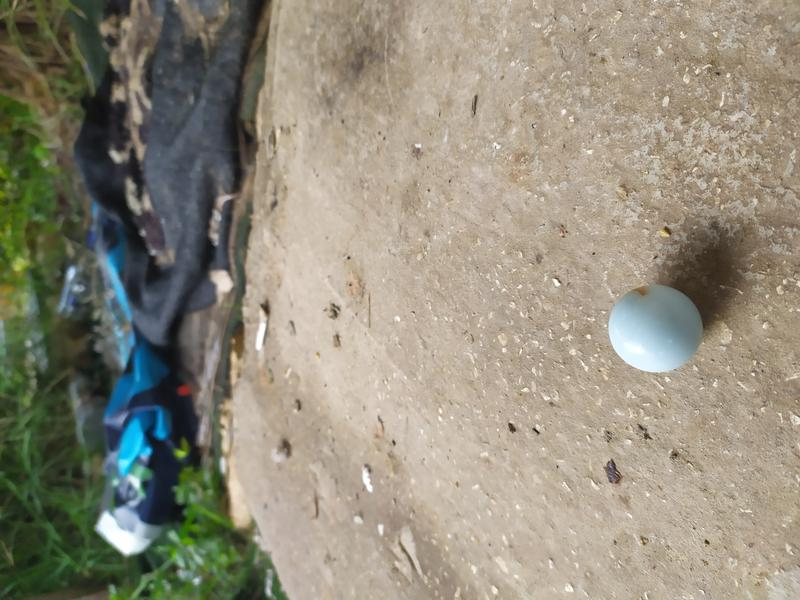Warning: (605, 282, 706, 375)
